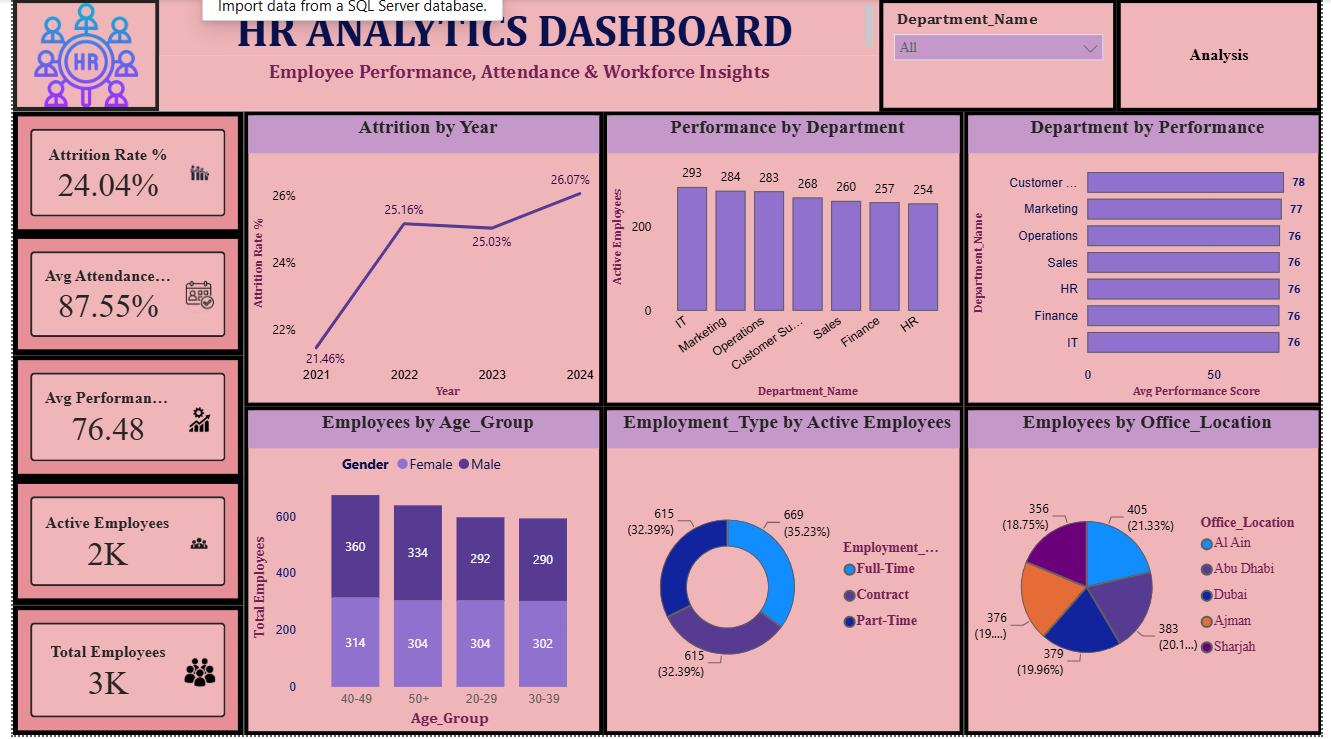

Layout of this report page (visuals, bound fields, positions):
{"tool":"powerbi","page":{"name":" Summary","canvas":[1280,720],"ordinal":0},"visuals":[{"type":"pieChart","title":" Employees by Office_Location","fields":{"Category":["Locations.Office_Location"],"Y":["Departments.Active Employees"]},"box":[930.6,398.6,349.7,321.6],"z":0},{"type":"donutChart","title":"Employment_Type by  Active Employees","fields":{"Category":["Employee.Employment_Type"],"Y":["Departments.Active Employees"]},"box":[577.2,398.6,353.4,321.6],"z":1000},{"type":"columnChart","title":" Employees by Age_Group ","fields":{"Category":["Employee.Age_Group"],"Series":["Employee.Gender"],"Y":["Departments.Total Employees"]},"box":[225.7,398.6,351.4,321.4],"z":2000},{"type":"barChart","title":"Department by Performance","fields":{"Category":["Departments.Department_Name"],"Y":["Departments.Avg Performance Score"]},"box":[930,110,350,288.6],"z":3000},{"type":"clusteredColumnChart","title":" Active Employees by Department","fields":{"Category":["Departments.Department_Name"],"Y":["Departments.Active Employees"]},"box":[577.1,110,352.9,288.6],"z":4000},{"type":"lineChart","title":"Attrition by Year","fields":{"Category":["Dim_Date.Date.Variation.Date Hierarchy.Year"],"Y":["Departments.Attrition Rate %"]},"box":[225.7,110,351.4,288.6],"z":5000},{"type":"textbox","box":[143.5,0,703.7,55.4],"z":6000},{"type":"image","box":[0,0,143.5,109.5],"z":7000},{"type":"cardVisual","fields":{"Data":["Departments.Total Employees"]},"box":[0,592.9,225.7,127.1],"z":8000},{"type":"cardVisual","fields":{"Data":["Departments.Active Employees"]},"box":[0,470,225.7,122.9],"z":9000},{"type":"cardVisual","fields":{"Data":["Departments.Avg Performance Score"]},"box":[0,348.5,226.2,121.1],"z":10000},{"type":"cardVisual","fields":{"Data":["Departments.Avg Attendance Rate %"]},"box":[0,229.9,226.2,118.6],"z":11000},{"type":"cardVisual","fields":{"Data":["Departments.Attrition Rate %"]},"box":[0,110,225.7,120],"z":12000},{"type":"slicer","fields":{"Values":["Departments.Department_Name"]},"box":[847.1,0,232.9,110],"z":13000},{"type":"actionButton","box":[1080,0,200,110],"z":14000},{"type":"textbox","box":[143.5,55.4,703.7,54.1],"z":15000}]}

Visuals, with their boxes in screenshot pixels (x1, y1, x2, y2):
" Employees by Office_Location" pieChart: x1=958, y1=403, x2=1312, y2=728
"Employment_Type by  Active Employees" donutChart: x1=601, y1=403, x2=958, y2=728
" Employees by Age_Group " columnChart: x1=246, y1=403, x2=601, y2=728
"Department by Performance" barChart: x1=958, y1=111, x2=1312, y2=403
" Active Employees by Department" clusteredColumnChart: x1=601, y1=111, x2=958, y2=403
"Attrition by Year" lineChart: x1=246, y1=111, x2=601, y2=403
textbox: x1=162, y1=0, x2=874, y2=56
image: x1=17, y1=0, x2=162, y2=111
cardVisual - Departments.Total Employees: x1=17, y1=600, x2=246, y2=728
cardVisual - Departments.Active Employees: x1=17, y1=475, x2=246, y2=600
cardVisual - Departments.Avg Performance Score: x1=17, y1=352, x2=246, y2=475
cardVisual - Departments.Avg Attendance Rate %: x1=17, y1=232, x2=246, y2=352
cardVisual - Departments.Attrition Rate %: x1=17, y1=111, x2=246, y2=233
slicer - Departments.Department_Name: x1=874, y1=0, x2=1109, y2=111
actionButton: x1=1109, y1=0, x2=1312, y2=111
textbox: x1=162, y1=56, x2=874, y2=111
